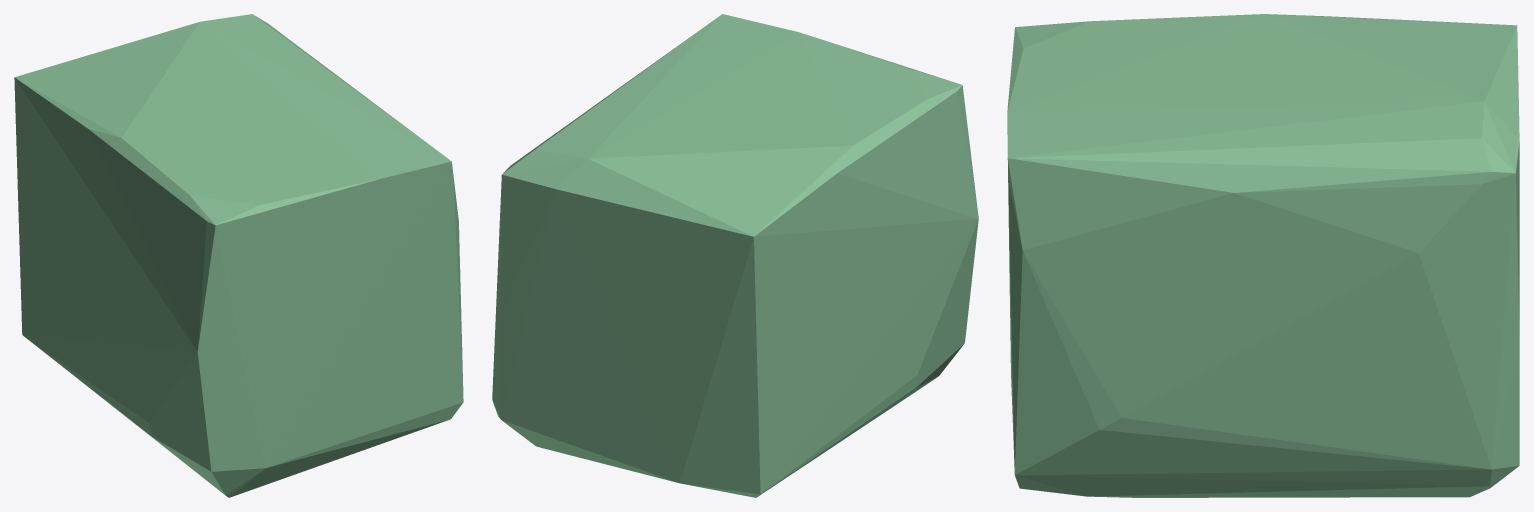
File: pallet_assembly_b02.glb
3 renders of one model, left to right at view 1: azimuth 30°, elevation 25°; view 2: azimuth 150°, elevation 25°; view 3: azimuth 270°, elevation 25°, orthographic. The views are drawn at different scales.
Parts seen in each view (by area): view 1: geometry_0; view 2: geometry_0; view 3: geometry_0.
Part boxes in pixels (x1,y1,x2,y2): geometry_0: (14,14,463,497); geometry_0: (492,14,978,497); geometry_0: (1007,14,1519,497).
Bounding box in the file's own units: 0.3718 × 0.3928 × 0.4749.
